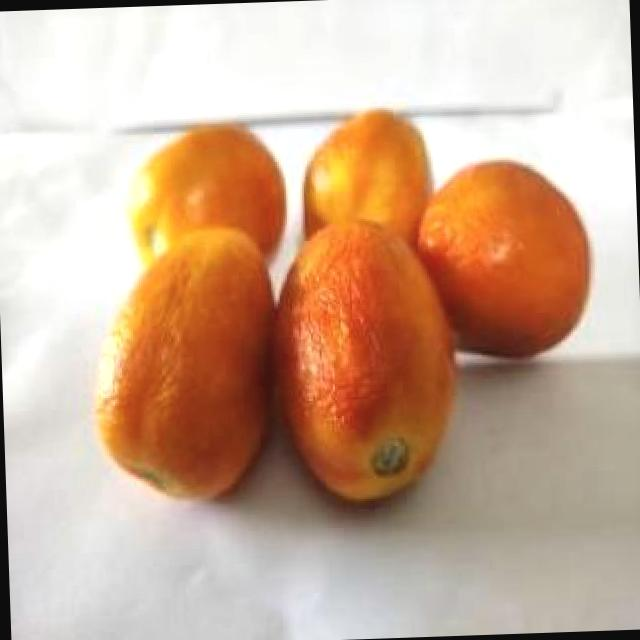Rotten_Tomato: (268, 216, 466, 514), (77, 220, 280, 510), (414, 152, 606, 378), (119, 115, 293, 299), (292, 104, 440, 279)
